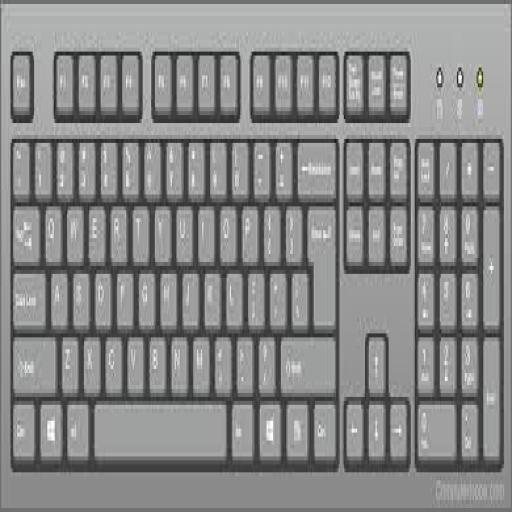keyboard: (0, 0, 511, 508)
